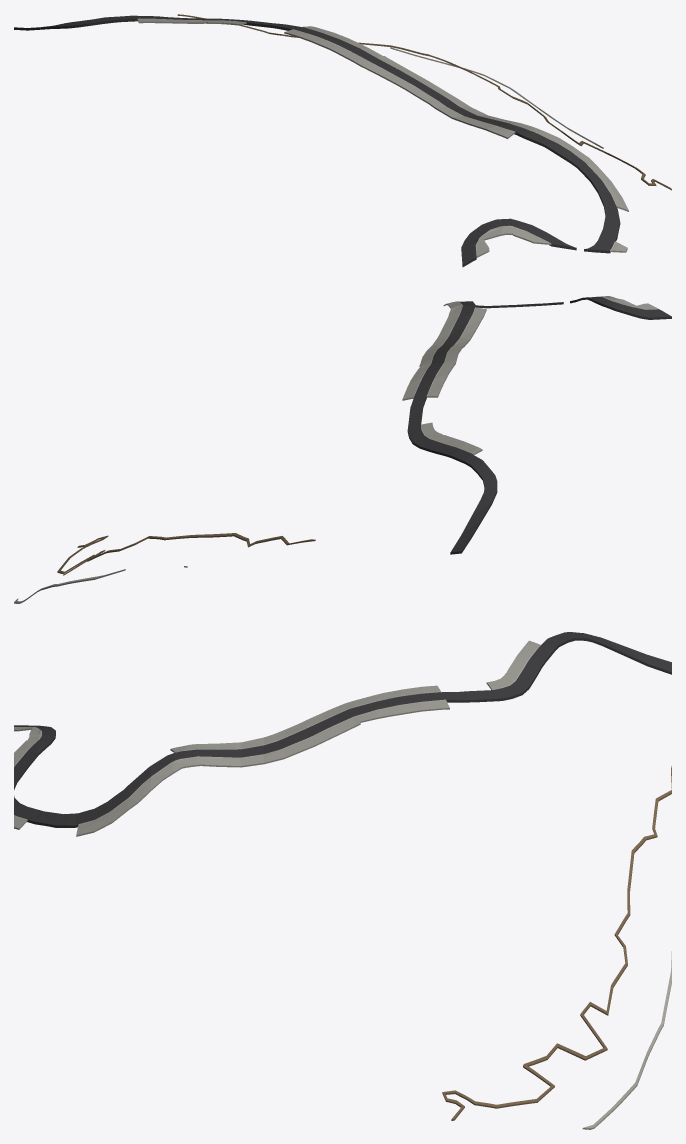
3 views of the same model, one above another, from view 1: azimuth 30°, elevation 25°; view 2: azimuth 150°, elevation 25°; view 3: azimuth 270°, elevation 25° (orthographic). The views are drawn at different scales.
Size of the model in its own units: 267 by 127 by 292.
